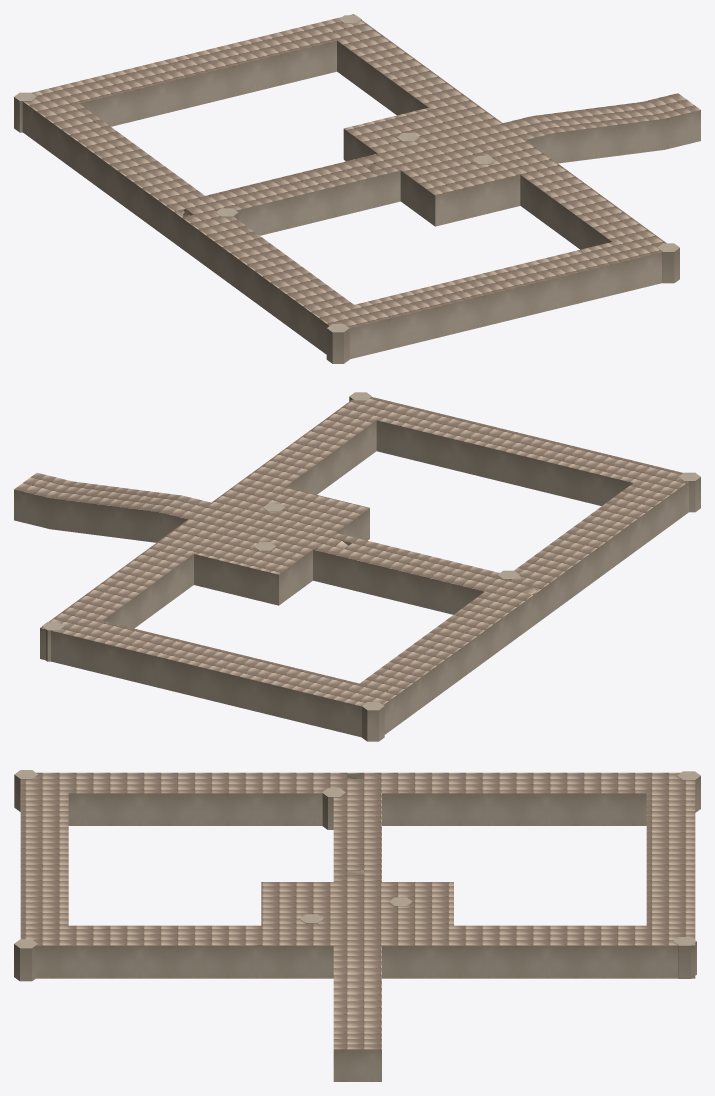
File: OfficeSpace.glb
3 renders of one model, top to bottom at view 1: azimuth 30°, elevation 25°; view 2: azimuth 150°, elevation 25°; view 3: azimuth 270°, elevation 25°, orthographic. The views are drawn at different scales.
Visible parts, largest first — view 1: Ceiling, Cube, Pillar.001, Pilar; view 2: Ceiling, Cube, Pillar.004, Pillar.001; view 3: Ceiling, Cube, Pilar, Pillar.003, Pillar.005.
Boxes of the visible parts, x1,y1,x2,y2 form: Ceiling: (23, 14, 700, 327); Cube: (22, 40, 700, 359); Pillar.001: (326, 324, 349, 363); Pilar: (657, 243, 679, 283); Ceiling: (14, 397, 688, 706); Cube: (14, 420, 688, 737); Pillar.004: (362, 702, 384, 741); Pillar.001: (678, 472, 700, 512); Ceiling: (20, 772, 695, 1049); Cube: (35, 773, 695, 1081); Pilar: (14, 939, 37, 981); Pillar.003: (673, 937, 696, 978); Pillar.005: (322, 788, 345, 829).
Bounding box in the file's own units: 52.15 × 4.25 × 57.04.
Materials: 4 (4 with a texture image).
